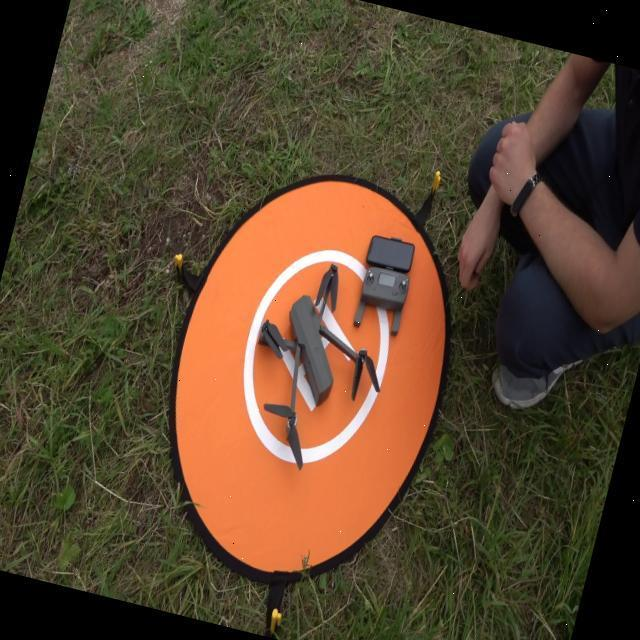Drons: (215, 243, 414, 489)
